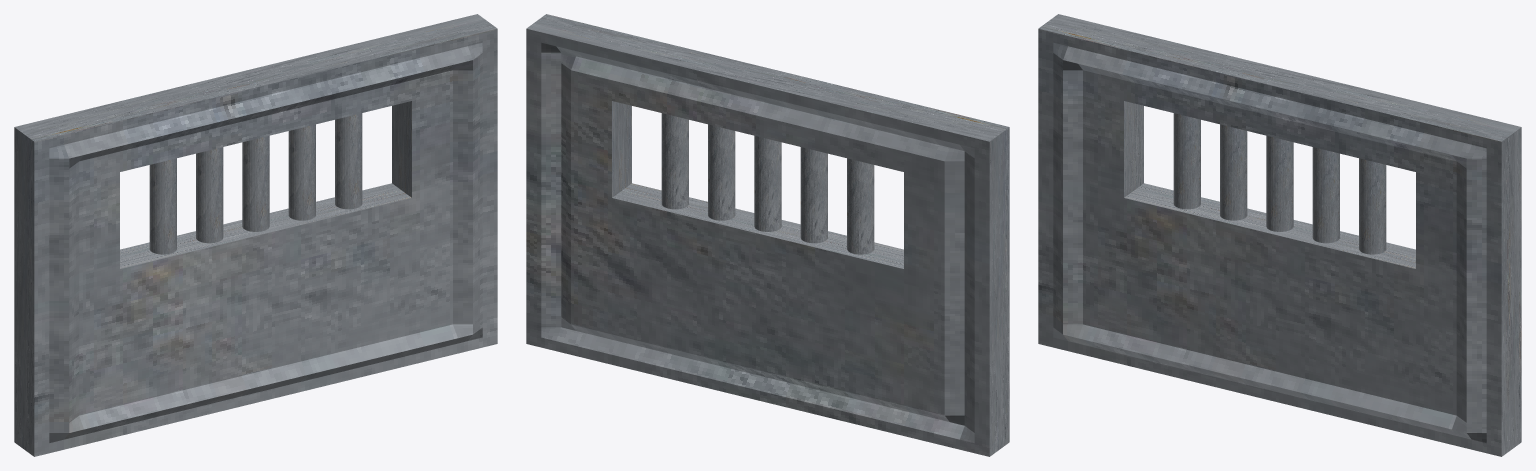
File: door.glb
3 views of the same model, side by side, from view 1: azimuth 30°, elevation 25°; view 2: azimuth 150°, elevation 25°; view 3: azimuth 330°, elevation 25° (orthographic).
Visible parts, largest first — view 1: Cylinder.004; view 2: Cylinder.004; view 3: Cylinder.004.
Boxes of the visible parts, x1,y1,x2,y2 form: Cylinder.004: (14,14,497,456); Cylinder.004: (526,14,1009,456); Cylinder.004: (1038,14,1521,456).
Size of the model in its own units: 10 by 6.5 by 0.9375.
Materials: 1 (1 with a texture image).
